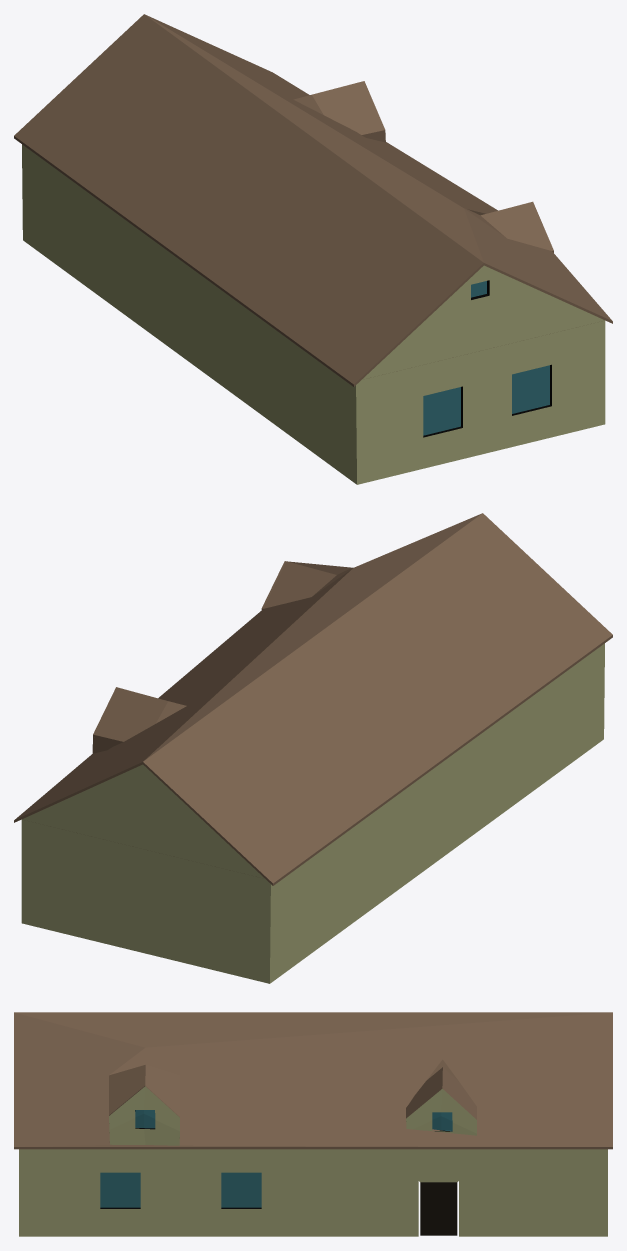
File: Avlangt_Ljust_hus.fbx
The picture shows the model from 3 angles, top to bottom: view 1: azimuth 30°, elevation 25°; view 2: azimuth 150°, elevation 25°; view 3: azimuth 270°, elevation 25°; orthographic projection. The views are drawn at different scales.
Parts seen in each view (by area): view 1: building_002.005; view 2: building_002.005; view 3: building_002.005.
Part boxes in pixels (x1=…): building_002.005: x1=14, y1=14, x2=612, y2=484; building_002.005: x1=14, y1=513, x2=612, y2=983; building_002.005: x1=14, y1=1012, x2=612, y2=1236.
Bounding box in the file's own units: 7.83 × 5.6 × 17.8.
